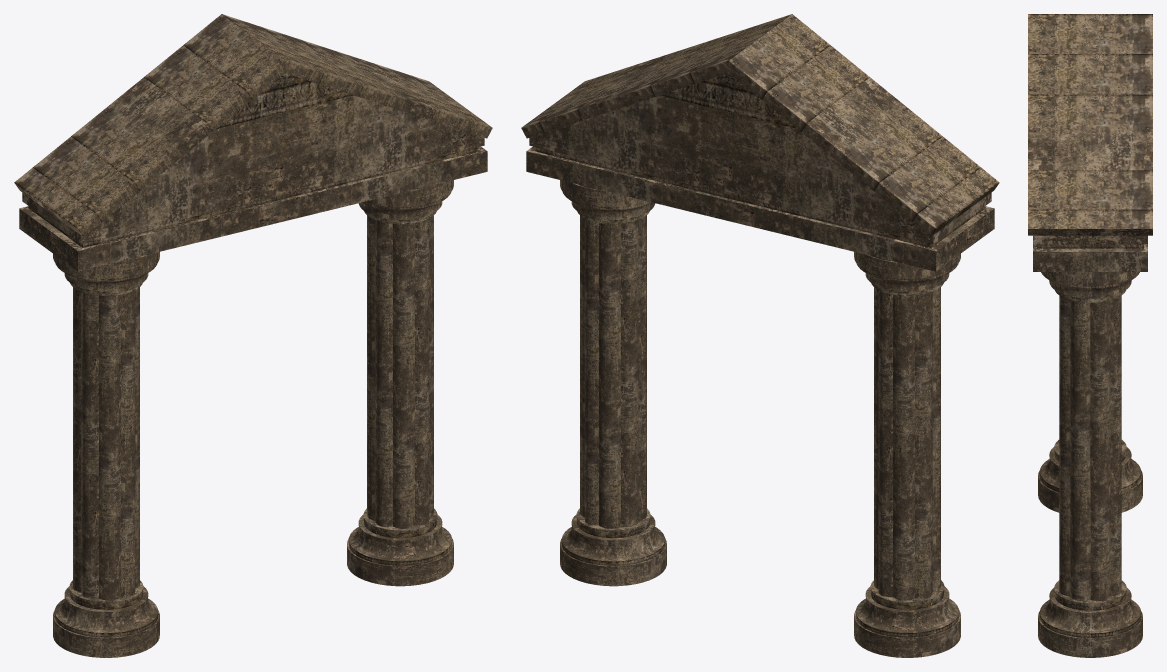
File: materials_5_gate_0.fbx
The picture shows the model from 3 angles, left to right: view 1: azimuth 30°, elevation 25°; view 2: azimuth 150°, elevation 25°; view 3: azimuth 270°, elevation 25°; orthographic projection.
Visible parts, largest first — view 1: materials_5_gate_0; view 2: materials_5_gate_0; view 3: materials_5_gate_0.
Boxes of the visible parts, left/top/right/bottom form: materials_5_gate_0: left=14, top=14, right=492, bottom=657; materials_5_gate_0: left=521, top=14, right=999, bottom=657; materials_5_gate_0: left=1028, top=14, right=1152, bottom=657.
Size of the model in its own units: 617 by 798 by 164.
